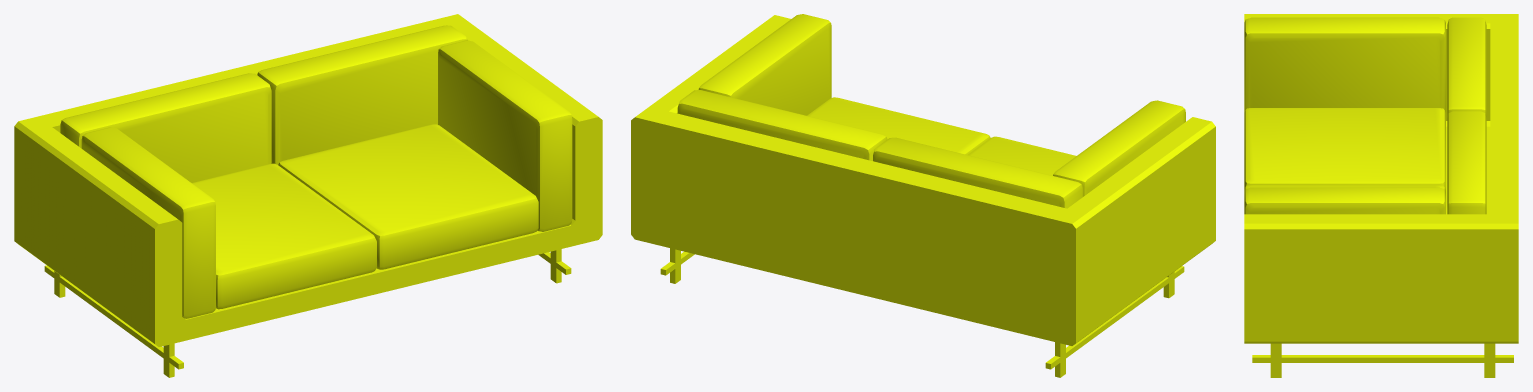
File: Sofa1.FBX
The picture shows the model from 3 angles, left to right: view 1: azimuth 30°, elevation 25°; view 2: azimuth 150°, elevation 25°; view 3: azimuth 270°, elevation 25°; orthographic projection. The views are drawn at different scales.
Visible parts, largest first — view 1: Box024; view 2: Box024; view 3: Box024.
Boxes of the visible parts, box(x1,y1,x2,y2) form: Box024: box(14, 14, 602, 377); Box024: box(631, 14, 1215, 377); Box024: box(1244, 14, 1518, 377).
Bounding box in the file's own units: 3.6 × 1.38 × 1.96.
